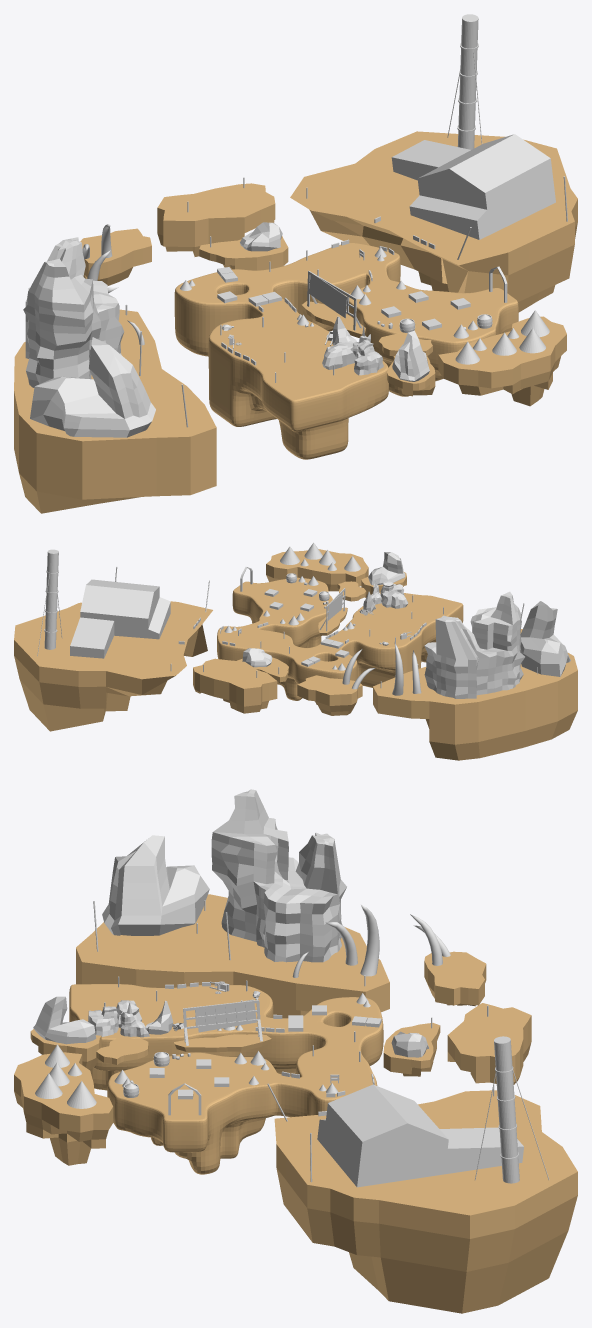
Rendered from Sala3.fbx.
3 renders of one model, top to bottom at view 1: azimuth 30°, elevation 25°; view 2: azimuth 150°, elevation 25°; view 3: azimuth 270°, elevation 25°, orthographic. The views are drawn at different scales.
Visible parts, largest first — view 1: Base 1-3, Cube.026, Cube.023, Cube.032, Roca.016, Roca.021, Cube.027, Cube.028, Cube.025, Tuberia, Cube.024, Cartel Grande Nombre de la Salitrera (+6 smaller); view 2: Base 1-3, Cube.026, Cube.023, Roca.016, Cube.032, Cube.027, Roca.021, Cube.028, Cube.025, Tuberia, Roca.020, Roca.019 (+6 smaller); view 3: Cube.026, Base 1-3, Cube.023, Roca.016, Cube.032, Roca.021, Cube.028, Cube.027, Cube.025, Tuberia, Cartel Grande Nombre de la Salitrera, Roca.020 (+7 smaller).
Boxes of the visible parts, left/top/right/bottom form: Base 1-3: left=174, top=243, right=518, bottom=459; Cube.026: left=290, top=131, right=577, bottom=312; Cube.023: left=14, top=309, right=216, bottom=513; Cube.032: left=391, top=134, right=555, bottom=239; Roca.016: left=23, top=237, right=124, bottom=387; Roca.021: left=30, top=337, right=155, bottom=437; Cube.027: left=157, top=183, right=275, bottom=256; Cube.028: left=438, top=316, right=566, bottom=406; Cube.025: left=80, top=228, right=151, bottom=285; Tuberia: left=457, top=14, right=478, bottom=149; Cube.024: left=199, top=236, right=288, bottom=270; Cartel Grande Nombre de la Salitrera: left=307, top=271, right=362, bottom=330; Base 1-3: left=217, top=577, right=463, bottom=700; Cube.026: left=14, top=601, right=212, bottom=731; Cube.023: left=373, top=629, right=577, bottom=760; Roca.016: left=424, top=591, right=524, bottom=698; Cube.032: left=70, top=579, right=170, bottom=658; Cube.027: left=193, top=658, right=277, bottom=713; Roca.021: left=520, top=601, right=570, bottom=676; Cube.028: left=266, top=549, right=368, bottom=591; Cube.025: left=297, top=675, right=362, bottom=715; Tuberia: left=44, top=549, right=58, bottom=649; Roca.020: left=368, top=552, right=405, bottom=585; Roca.019: left=242, top=648, right=272, bottom=667; Cube.026: left=274, top=1090, right=577, bottom=1313; Base 1-3: left=69, top=984, right=383, bottom=1174; Cube.023: left=76, top=894, right=389, bottom=1018; Roca.016: left=211, top=789, right=346, bottom=962; Cube.032: left=317, top=1084, right=523, bottom=1187; Roca.021: left=102, top=835, right=209, bottom=935; Cube.028: left=14, top=1052, right=113, bottom=1165; Cube.027: left=447, top=1003, right=531, bottom=1084; Cube.025: left=424, top=951, right=486, bottom=1006; Tuberia: left=494, top=1036, right=519, bottom=1183; Cartel Grande Nombre de la Salitrera: left=183, top=999, right=262, bottom=1045; Roca.020: left=33, top=996, right=96, bottom=1044.
Size of the model in its own units: 41301 by 58149 by 20020.
